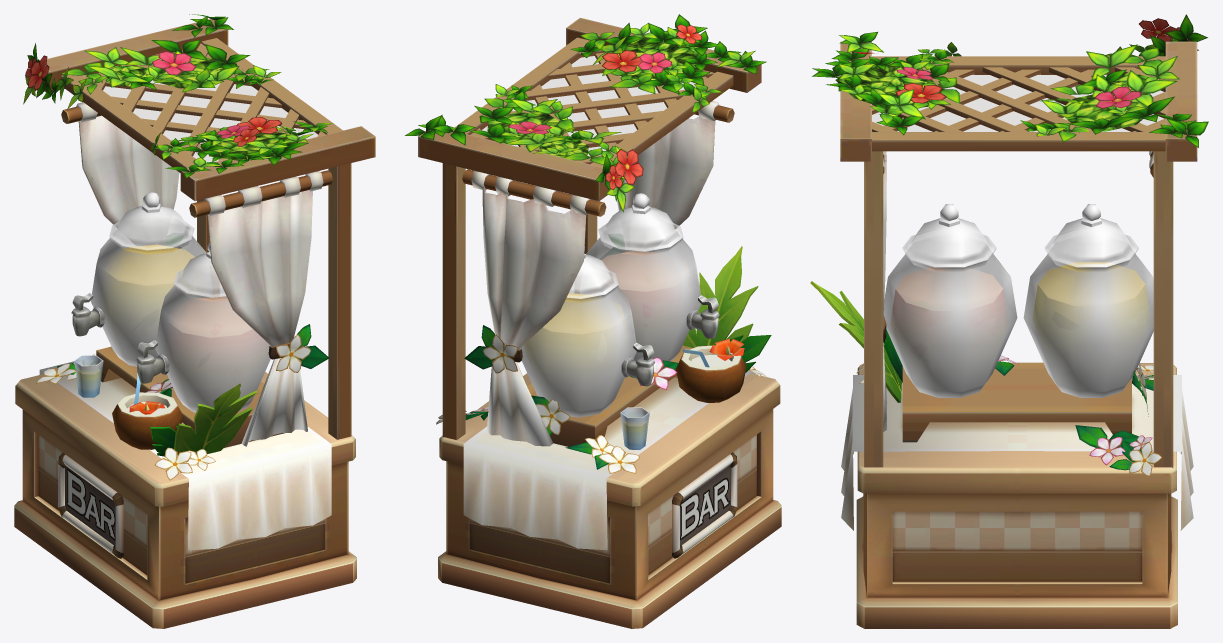
File: my_sunshineresort_01_drinkstall_01.glb
The picture shows the model from 3 angles, left to right: view 1: azimuth 30°, elevation 25°; view 2: azimuth 150°, elevation 25°; view 3: azimuth 270°, elevation 25°; orthographic projection. The views are drawn at different scales.
Parts seen in each view (by area): view 1: my_sunshineresort_01_drinkstall_01; view 2: my_sunshineresort_01_drinkstall_01; view 3: my_sunshineresort_01_drinkstall_01.
Part boxes in pixels (x1=…): my_sunshineresort_01_drinkstall_01: x1=14, y1=14, x2=375, y2=628; my_sunshineresort_01_drinkstall_01: x1=405, y1=14, x2=781, y2=628; my_sunshineresort_01_drinkstall_01: x1=810, y1=14, x2=1208, y2=628.
Size of the model in its own units: 0.00582 by 0.0117 by 0.0081.
3 materials, 3 textured.
